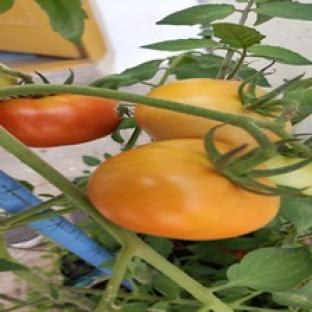Tomato: (88, 140, 279, 239), (0, 94, 121, 147), (147, 78, 268, 119), (272, 163, 311, 196), (0, 73, 16, 87)
